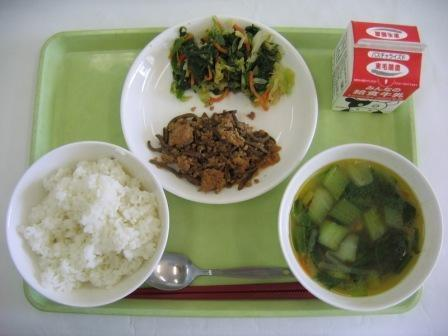Milk: (326, 17, 428, 120)
Rice: (7, 147, 166, 298)
Soups: (286, 152, 435, 305)
cooked food based on meat: (147, 110, 282, 195)
salad with sauce: (170, 14, 295, 112)
